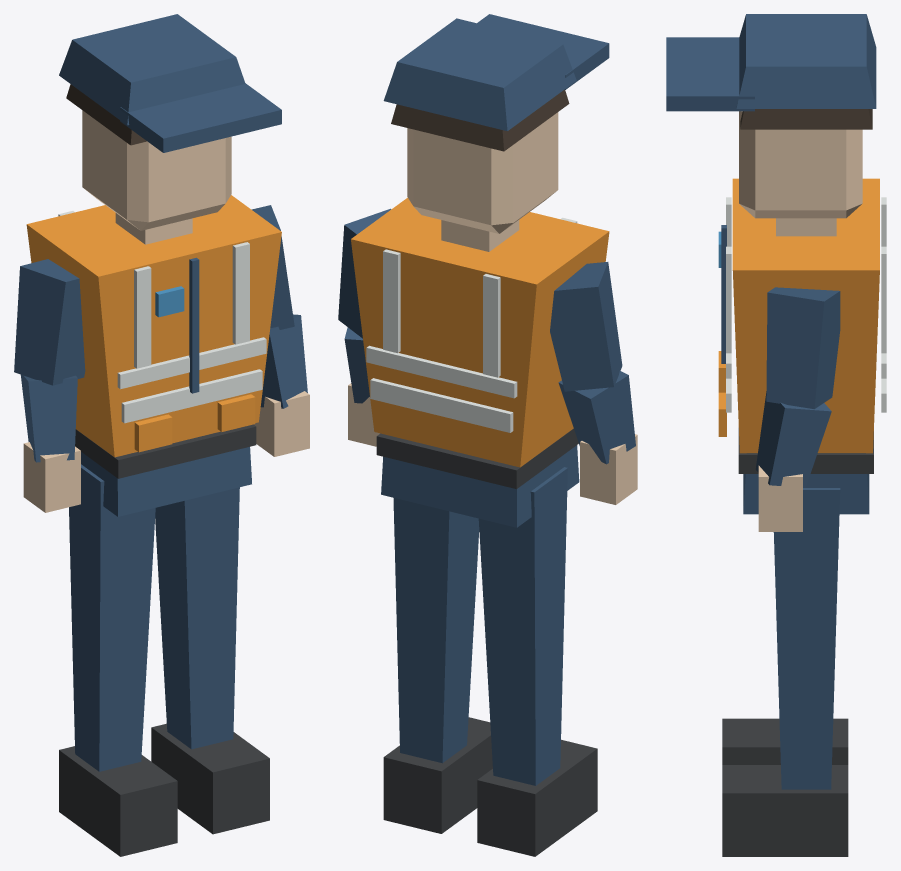
Rendered from Municipal_Worker_01_Orange_Vest.fbx.
3 views of the same model, side by side, from view 1: azimuth 30°, elevation 25°; view 2: azimuth 150°, elevation 25°; view 3: azimuth 270°, elevation 25° (orthographic). The views are drawn at different scales.
Parts seen in each view (by area): view 1: Municipal_Worker_01_Orange_Vest_Mesh; view 2: Municipal_Worker_01_Orange_Vest_Mesh; view 3: Municipal_Worker_01_Orange_Vest_Mesh.
Boxes of the visible parts, x1,y1,x2,y2 form: Municipal_Worker_01_Orange_Vest_Mesh: [14, 14, 309, 856]; Municipal_Worker_01_Orange_Vest_Mesh: [338, 14, 637, 856]; Municipal_Worker_01_Orange_Vest_Mesh: [666, 14, 886, 856].
Size of the model in its own units: 67.56 by 180 by 46.17.
